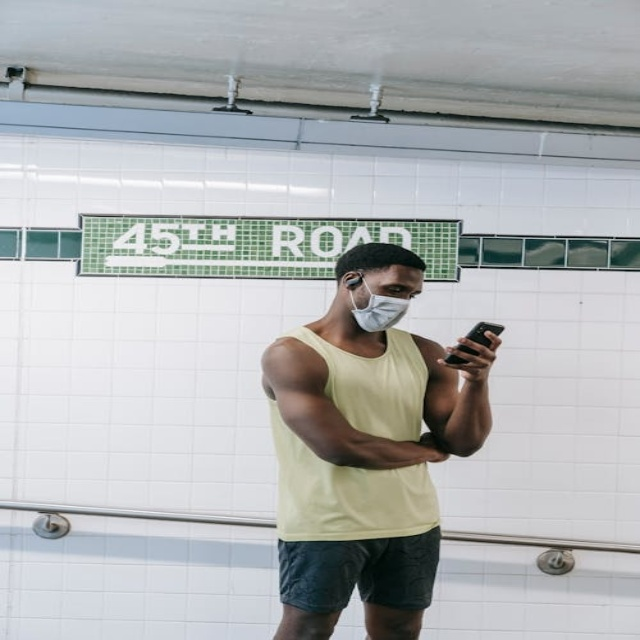Mascara: (347, 276, 413, 331)
Sin_gafas: (369, 277, 422, 298)
Sin_guantes: (431, 329, 508, 383)
